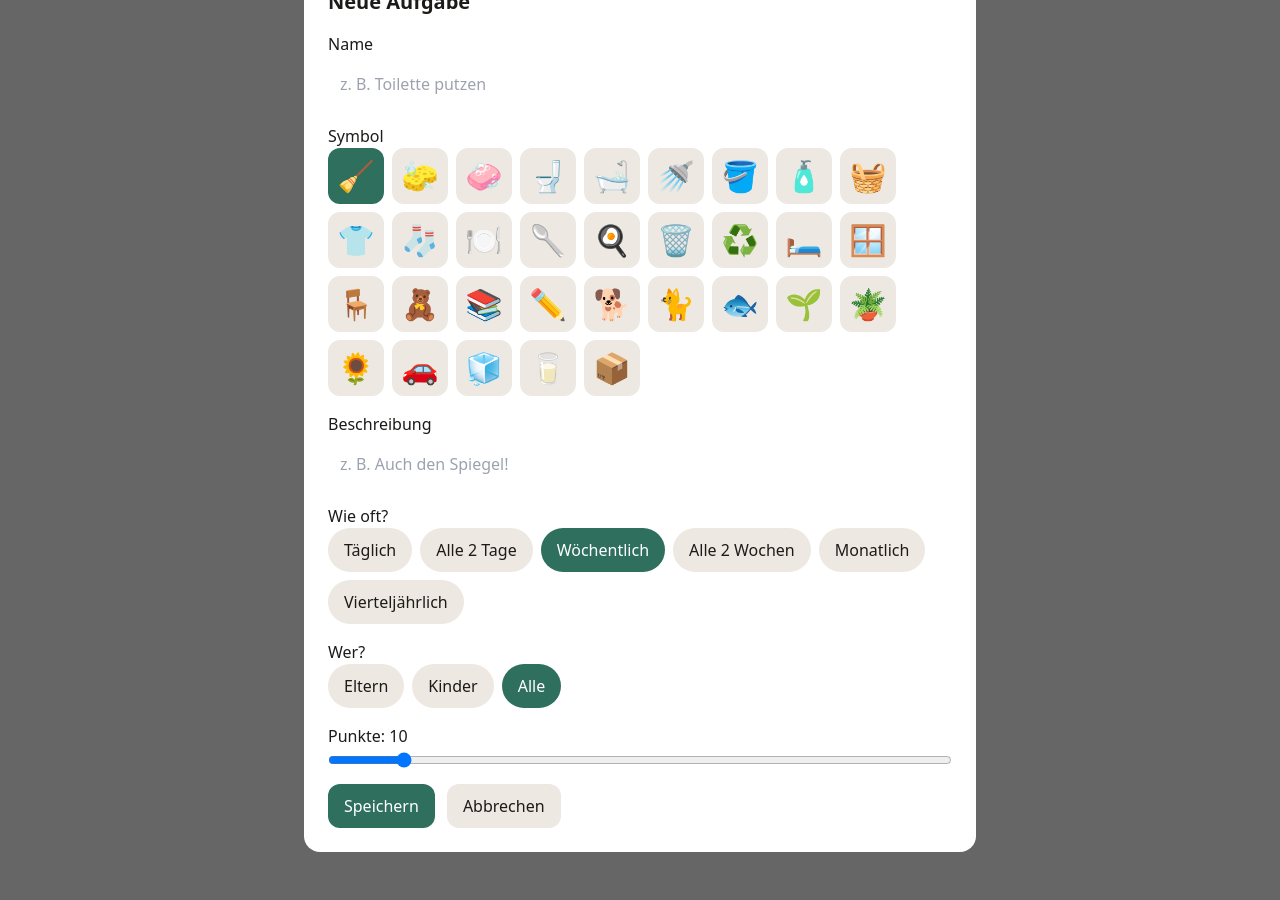
Test: ChoreDialog — Anlegen › speichert nicht ohne Namen
(page scrolled)
Click the button "Speichern". click: (381, 806)
box: [328,784,435,828]
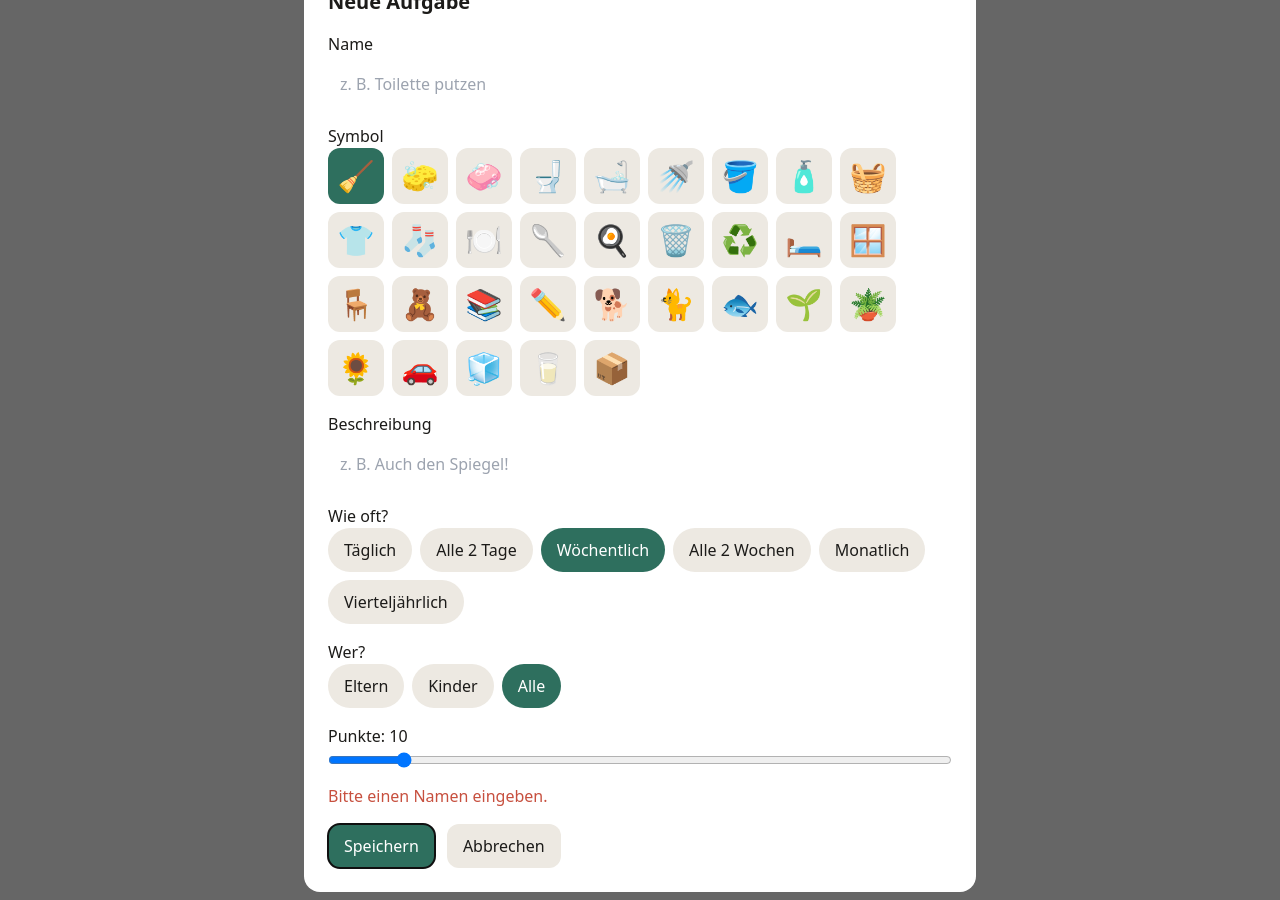
Expected: the text "Bitte einen Namen eingeben." is shown, [328,785,548,807]
